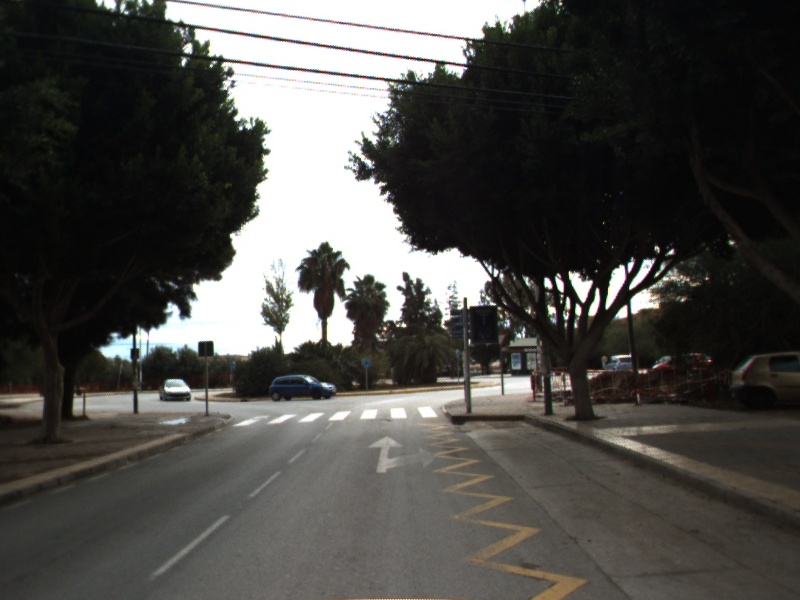STRAIGHT_RIGHT: (365, 434, 440, 475)
